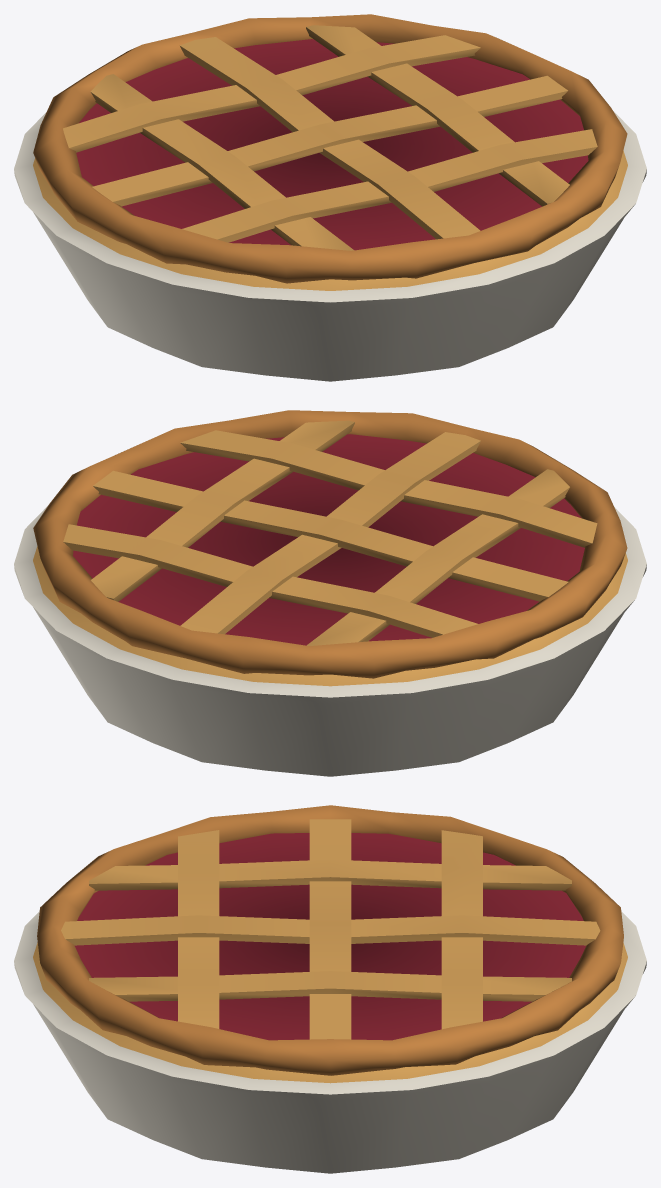
The model's file is pieDish.glb.
3 renders of one model, top to bottom at view 1: azimuth 30°, elevation 25°; view 2: azimuth 150°, elevation 25°; view 3: azimuth 270°, elevation 25°, orthographic.
Parts seen in each view (by area): view 1: pieDish; view 2: pieDish; view 3: pieDish.
Boxes of the visible parts, left/top/right/bottom form: pieDish: left=14, top=14, right=646, bottom=381; pieDish: left=14, top=410, right=646, bottom=776; pieDish: left=14, top=805, right=646, bottom=1173.
Bounding box in the file's own units: 0.336 × 0.0839 × 0.336.
